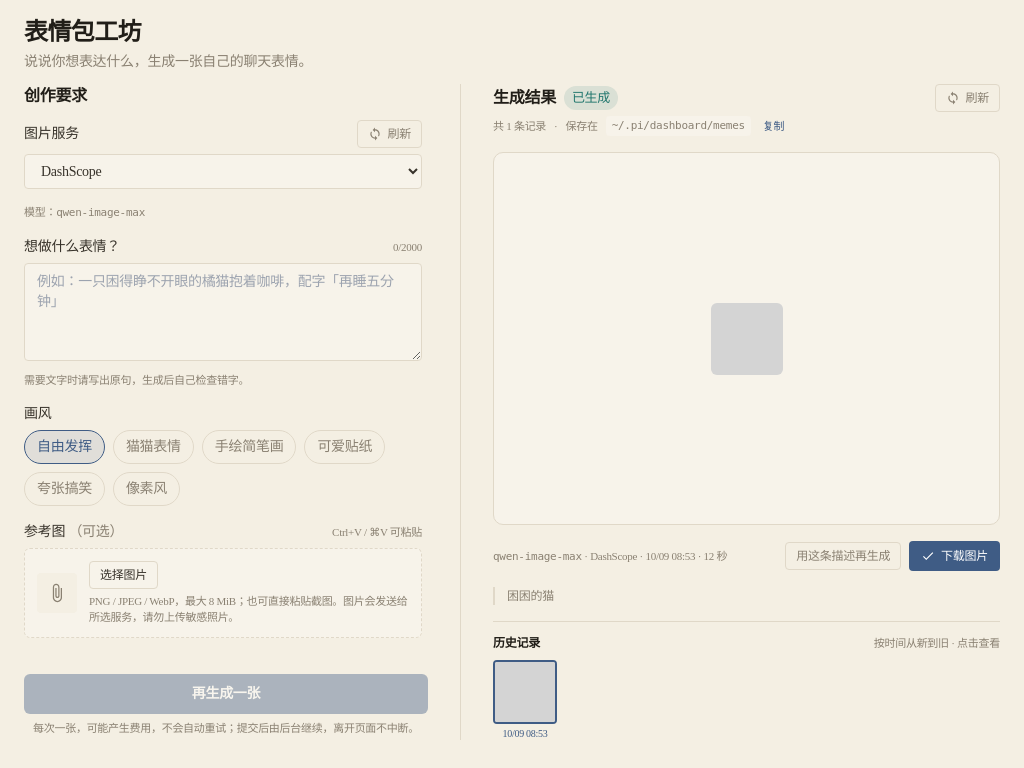
Test: MemeStudioPage › copies the save path so the files can be found in a terminal
This screenshot has width=1024, height=768.
Step 1. Click the button with aria-label "复制保存路径" → (774, 126), box x1=759 y1=116 x2=788 y2=136
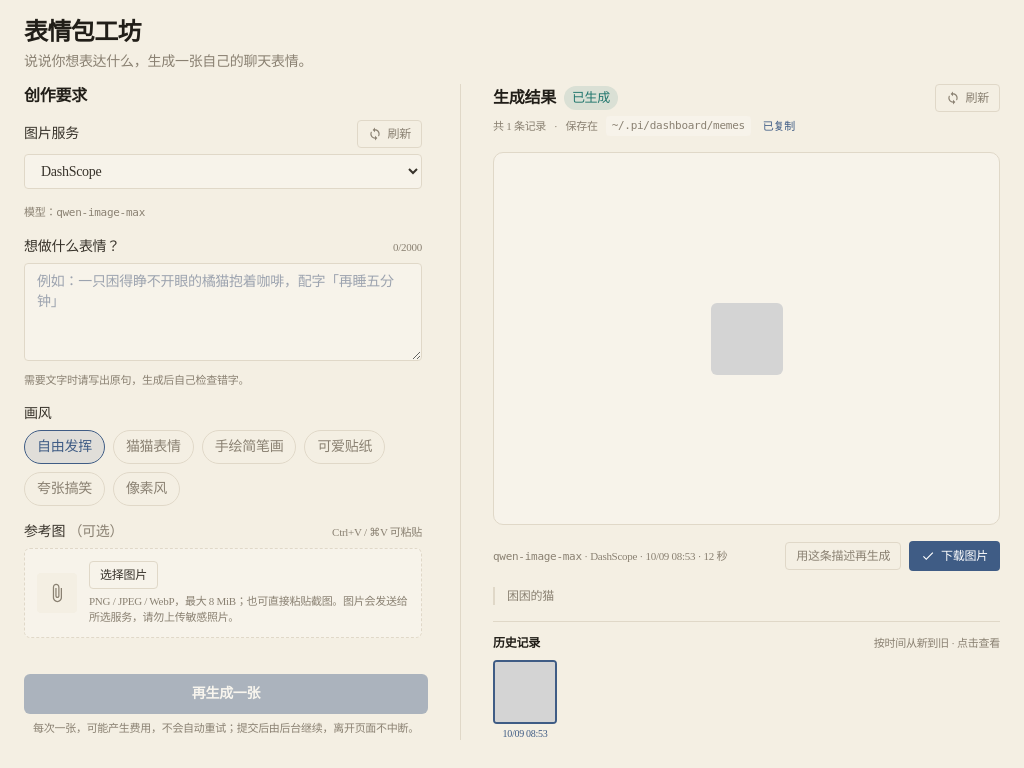
Expected: the button with aria-label "复制保存路径" reads "已复制", x1=759 y1=116 x2=799 y2=136
